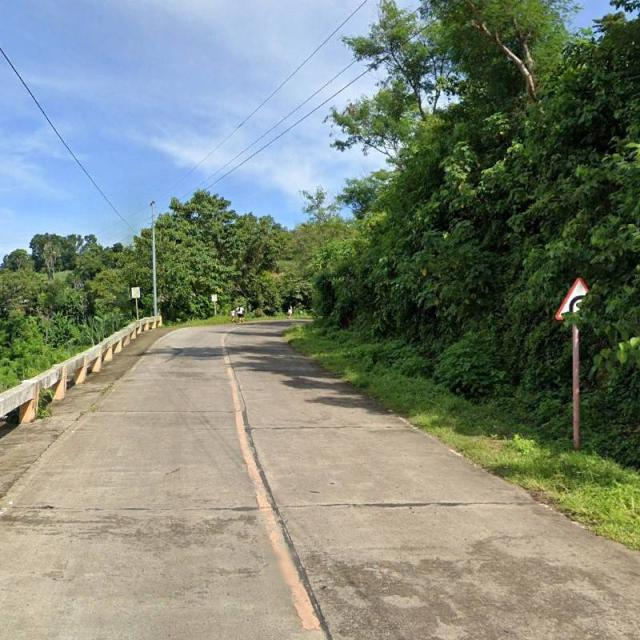warn_right_curve: (555, 278, 604, 321)
